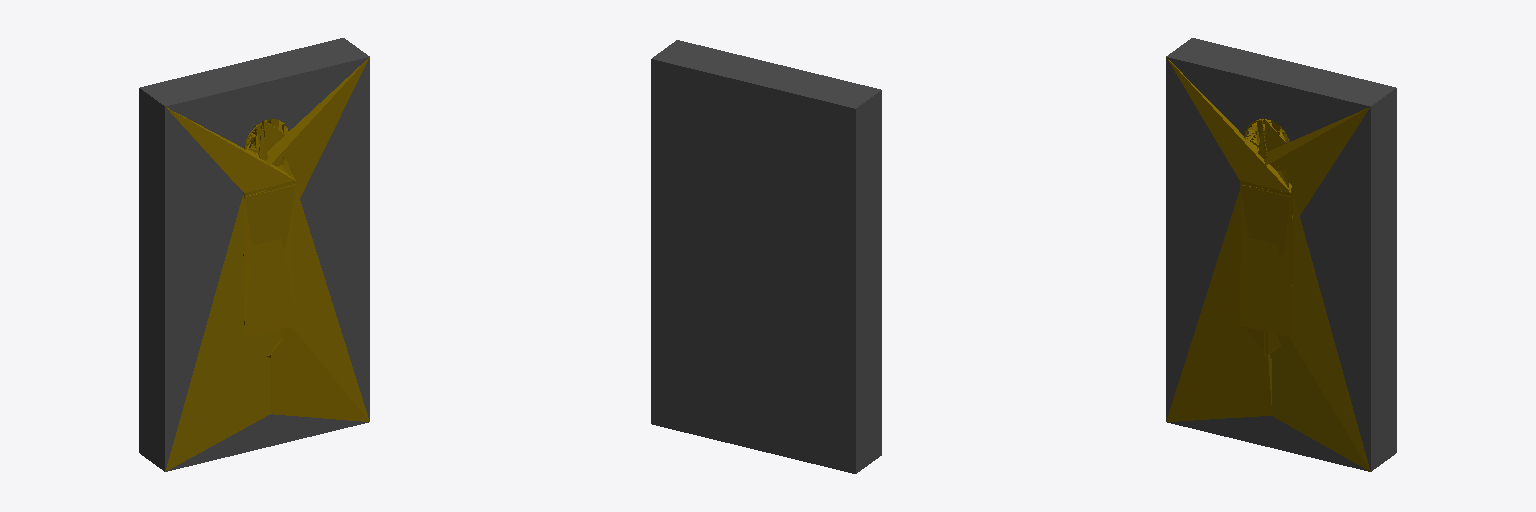
File: gen.obj
3 renders of one model, left to right at view 1: azimuth 30°, elevation 25°; view 2: azimuth 150°, elevation 25°; view 3: azimuth 330°, elevation 25°, orthographic.
Parts seen in each view (by area): view 1: Box010, Torus003; view 2: Box010; view 3: Box010, Torus003.
Part boxes in pixels (left/top/right/bottom): Box010: left=139, top=38, right=369, bottom=471; Torus003: left=165, top=57, right=369, bottom=471; Box010: left=651, top=40, right=881, bottom=473; Box010: left=1166, top=38, right=1396, bottom=471; Torus003: left=1166, top=57, right=1370, bottom=471.
Size of the model in its own units: 5.93 by 10.11 by 1.45.